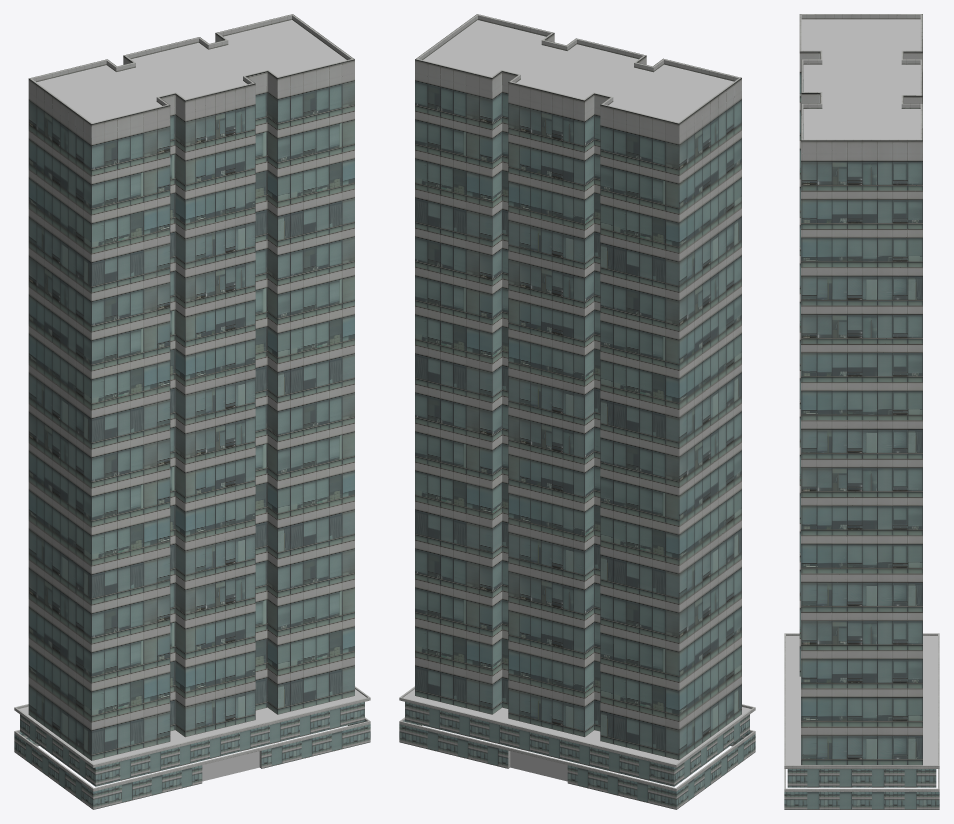
Rendered from hotel3.glb.
3 views of the same model, side by side, from view 1: azimuth 30°, elevation 25°; view 2: azimuth 150°, elevation 25°; view 3: azimuth 270°, elevation 25° (orthographic).
Visible parts, largest first — view 1: Object012_09 - Default_0__building_01_building_01_quads_buil, Object012_09 - Default_0; view 2: Object012_09 - Default_0__building_01_building_01_quads_buil, Object012_09 - Default_0; view 3: Object012_09 - Default_0__building_01_building_01_quads_buil, Object012_09 - Default_0.
Boxes of the visible parts, x1,y1,x2,y2 form: Object012_09 - Default_0__building_01_building_01_quads_buil: (14,14,370,809); Object012_09 - Default_0: (19,20,366,781); Object012_09 - Default_0__building_01_building_01_quads_buil: (399,14,755,809); Object012_09 - Default_0: (403,20,750,781); Object012_09 - Default_0__building_01_building_01_quads_buil: (784,14,939,809); Object012_09 - Default_0: (786,19,937,765).
Bounding box in the file's own units: 24.41 × 57.07 × 12.06.
3 materials, 1 textured.
